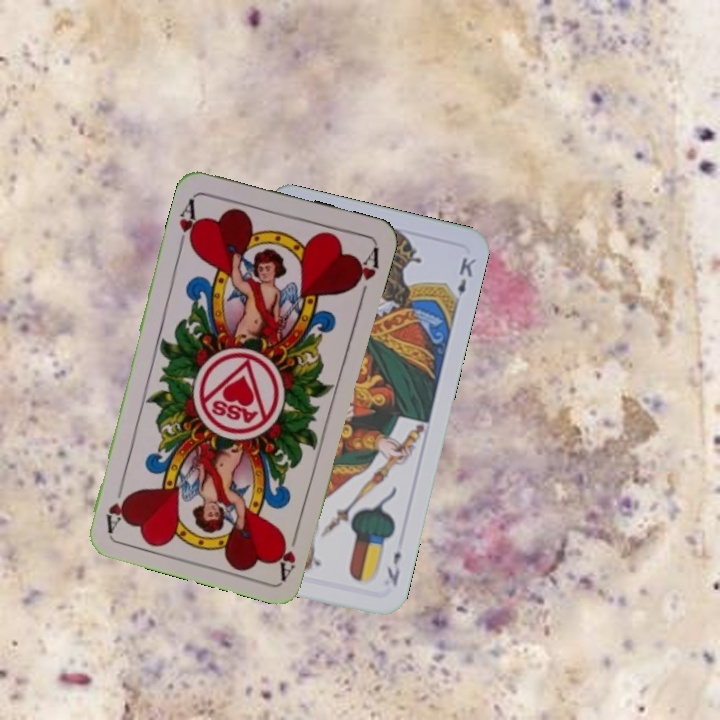EK: (383, 547, 404, 588)
HA: (271, 522, 302, 580), (174, 192, 203, 251)
